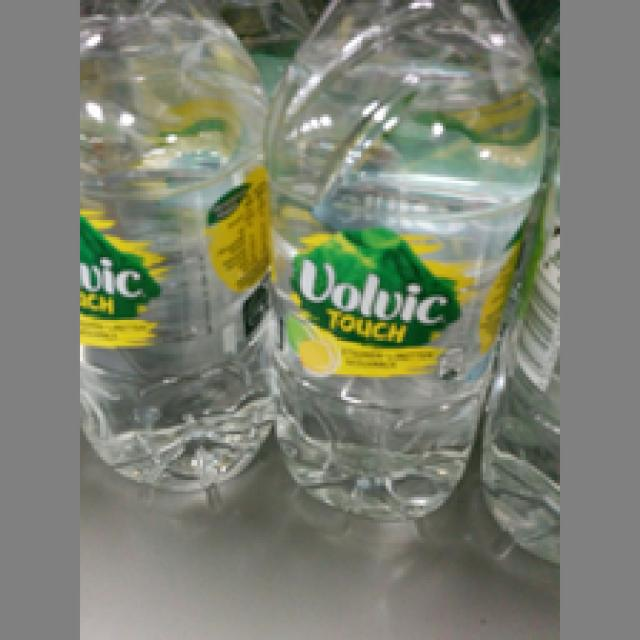groceries: (260, 0, 543, 517), (77, 0, 266, 489)
